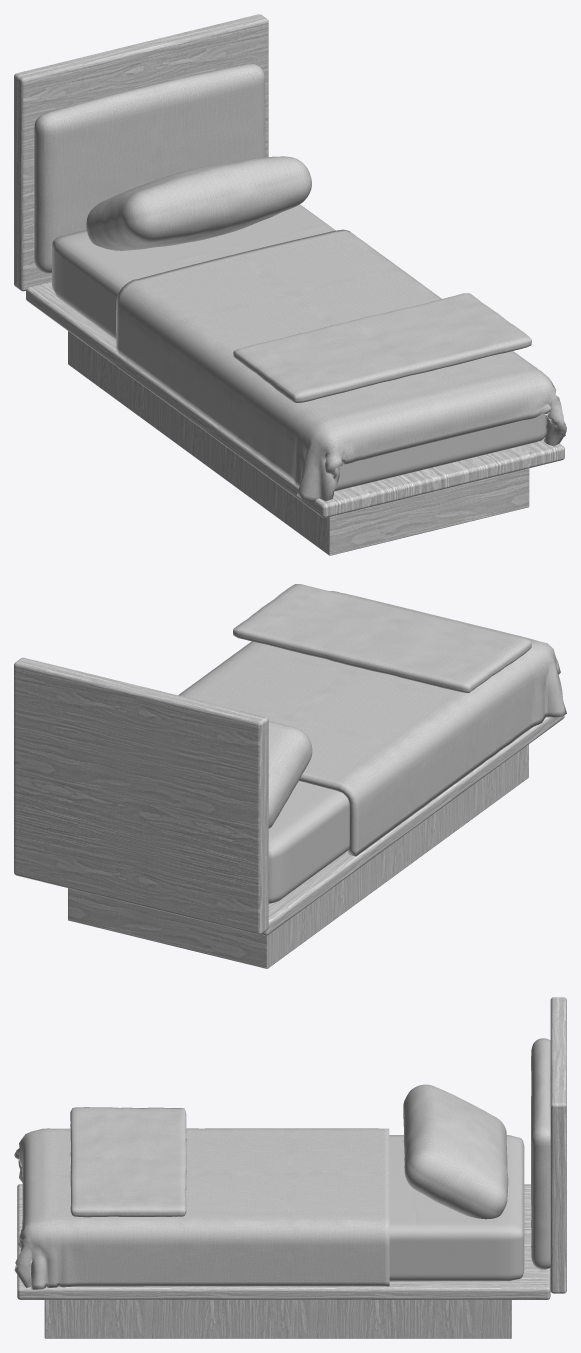
File: bed-single.gltf
3 views of the same model, one above another, from view 1: azimuth 30°, elevation 25°; view 2: azimuth 150°, elevation 25°; view 3: azimuth 270°, elevation 25° (orthographic). The views are drawn at different scales.
Visible parts, largest first — view 1: bed; view 2: bed; view 3: bed.
Part boxes in pixels (x1,y1,x2,y2): bed: [14, 14, 566, 555]; bed: [14, 584, 566, 968]; bed: [14, 997, 566, 1338].
Size of the model in its own units: 0.9857 by 0.9844 by 2.01.
Materials: 4 (4 with a texture image).
